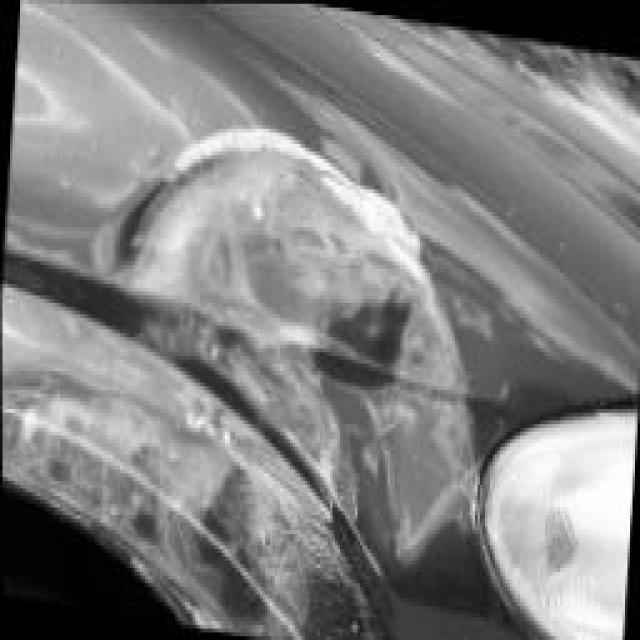Fender: (1, 2, 560, 640)
